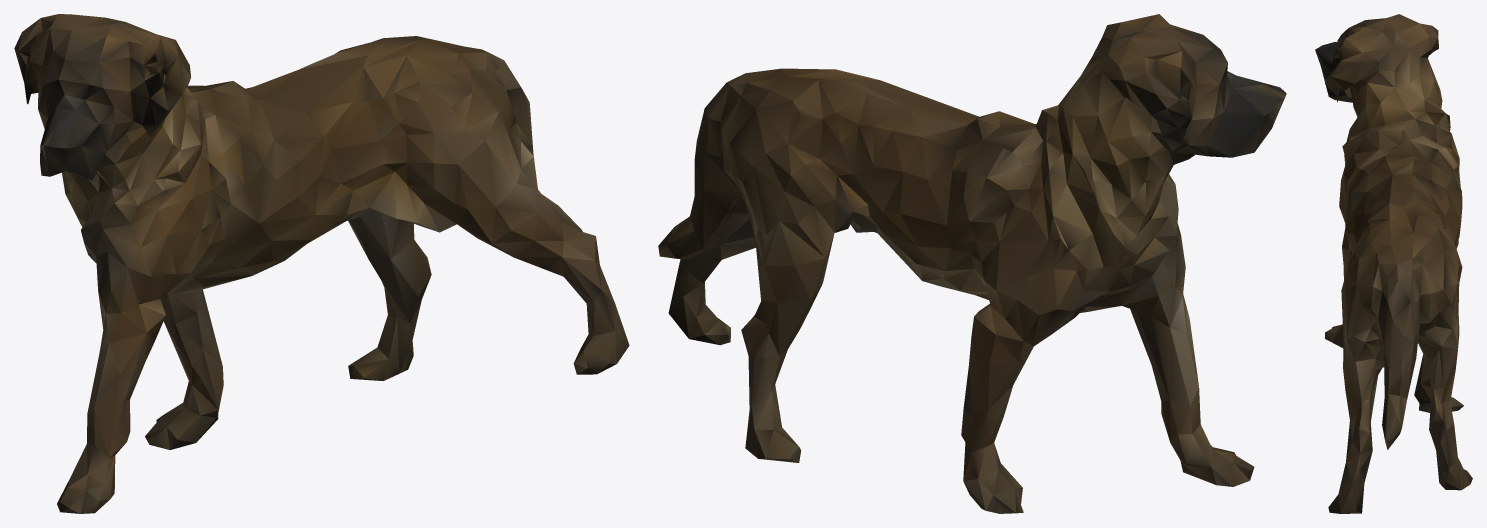
The model's file is dog_walk_a.glb.
3 views of the same model, side by side, from view 1: azimuth 30°, elevation 25°; view 2: azimuth 150°, elevation 25°; view 3: azimuth 270°, elevation 25° (orthographic). The views are drawn at different scales.
Parts seen in each view (by area): view 1: dog_walk_a; view 2: dog_walk_a; view 3: dog_walk_a.
Part boxes in pixels (x1=…): dog_walk_a: x1=14, y1=14, x2=629, y2=513; dog_walk_a: x1=658, y1=14, x2=1286, y2=513; dog_walk_a: x1=1315, y1=14, x2=1472, y2=513.
Bounding box in the file's own units: 3.35 × 2.54 × 1.05.
